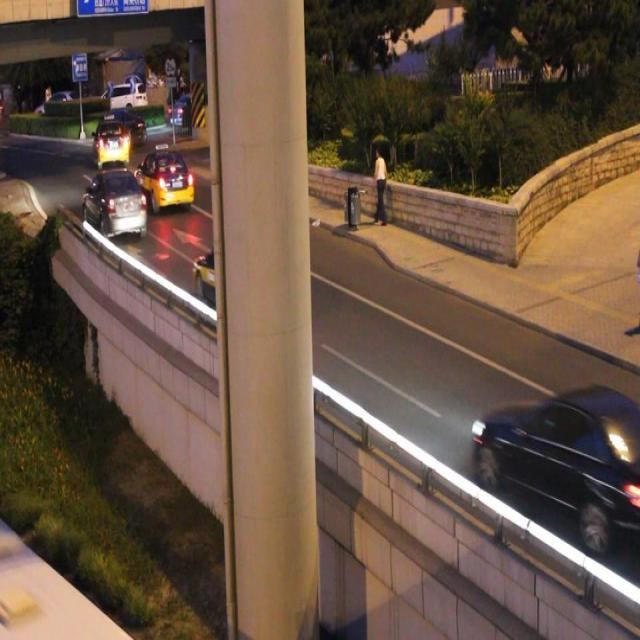car: (476, 381, 640, 541), (84, 168, 145, 236), (193, 237, 256, 300), (136, 151, 193, 209), (95, 120, 129, 163)
